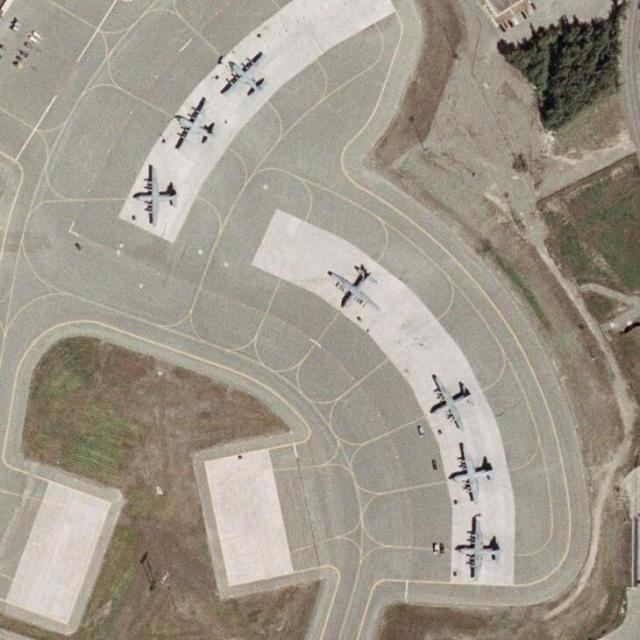fighter jet: (133, 168, 185, 230), (215, 42, 262, 100), (446, 450, 495, 500), (428, 371, 472, 426), (332, 257, 373, 316), (172, 97, 215, 153), (455, 521, 497, 578), (414, 361, 414, 362)
